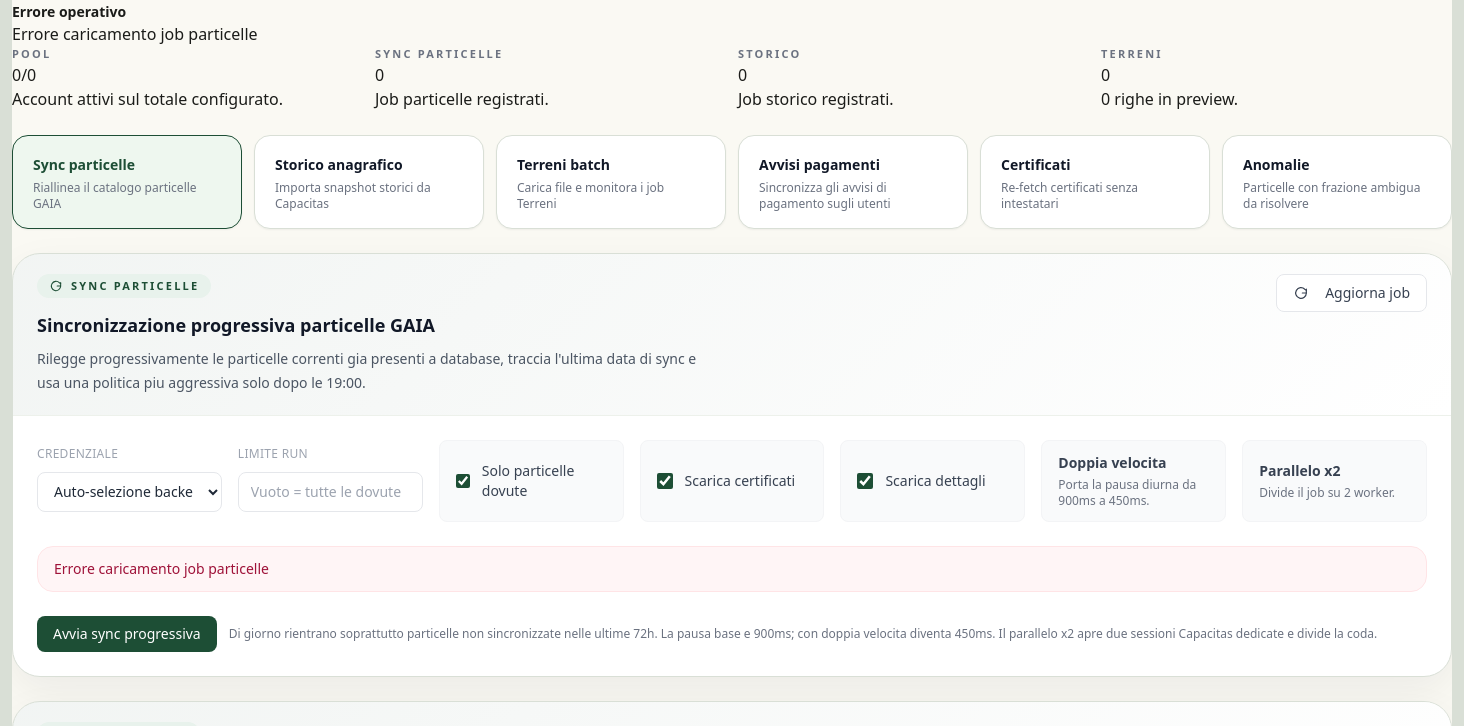
Capacitas Particelle monitor characterization › initial list rejection preserves error until explicit recovery: untyped failure
Expected: the text "Errore caricamento job particelle" is shown 2 times, [12,23,258,45]; [37,546,1427,592]
Expected: the text "Errore caricamento job particelle" below "Errore operativo" is shown, [12,23,258,45]
Click the button "Aggiorna job".
click(1352, 292)  # box [1276,274,1427,312]
(page scrolled)
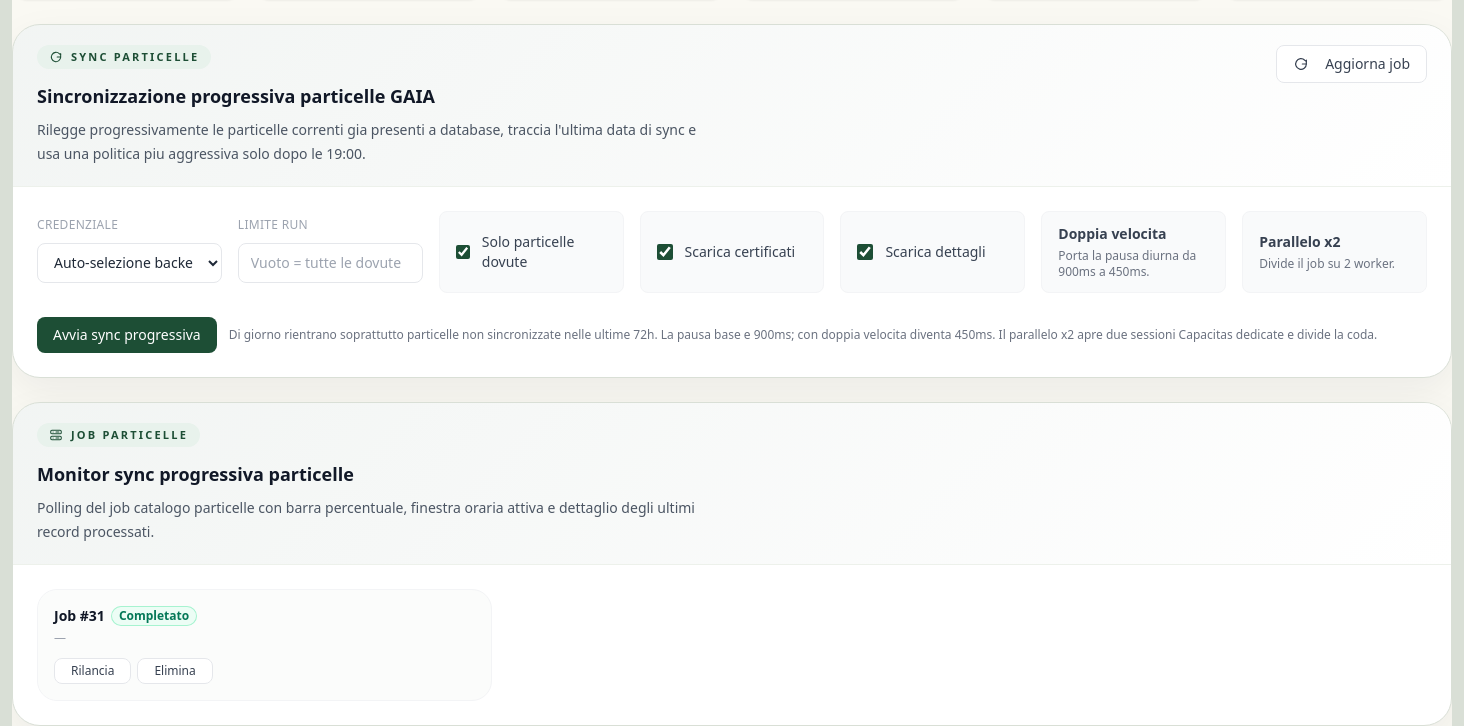
Result: the text "Job #31" is shown at [54,606,105,626]
Result: the text "Errore caricamento job particelle" is gone
